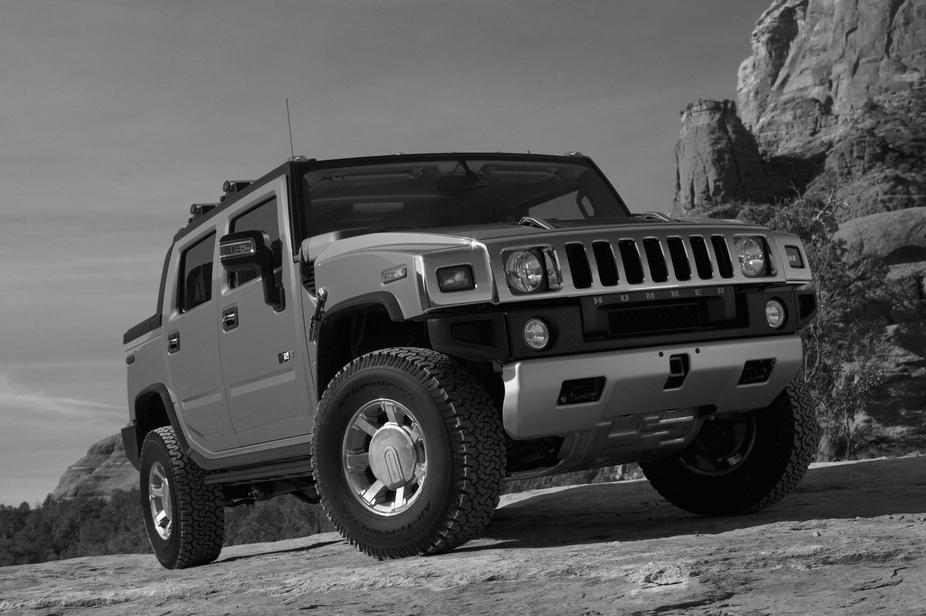car: (126, 98, 822, 572)
